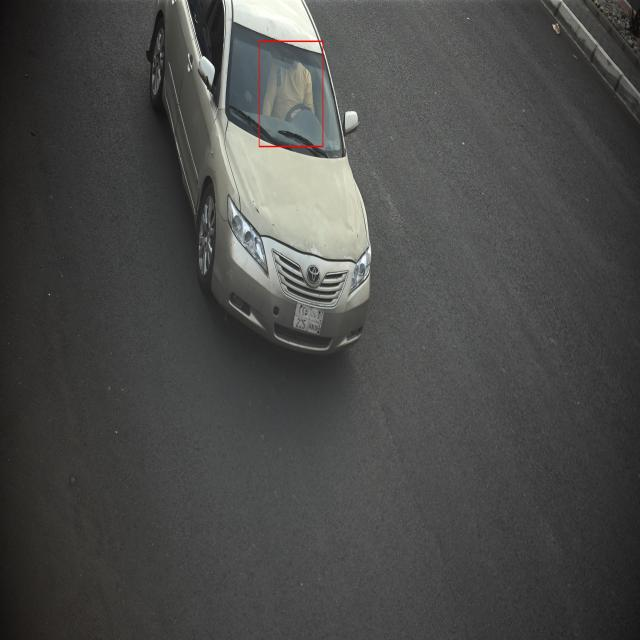windshield: (212, 15, 348, 162)
